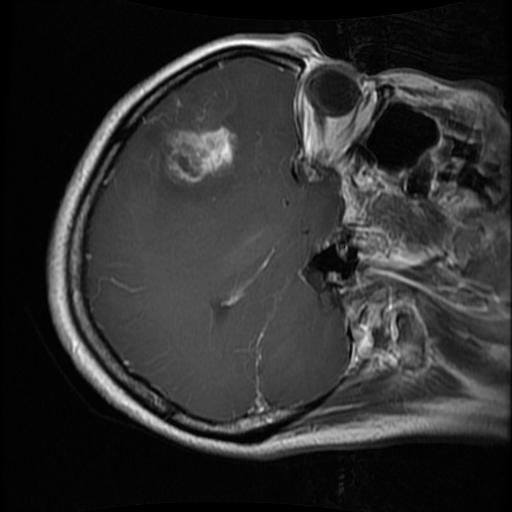glioma: (157, 124, 234, 190)
